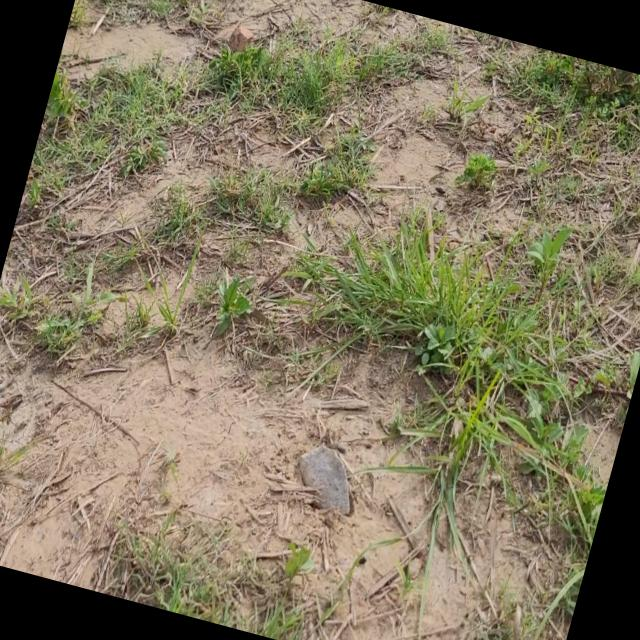grass: (0, 0, 640, 640), (105, 512, 303, 640)
white-sand: (0, 341, 487, 640)
